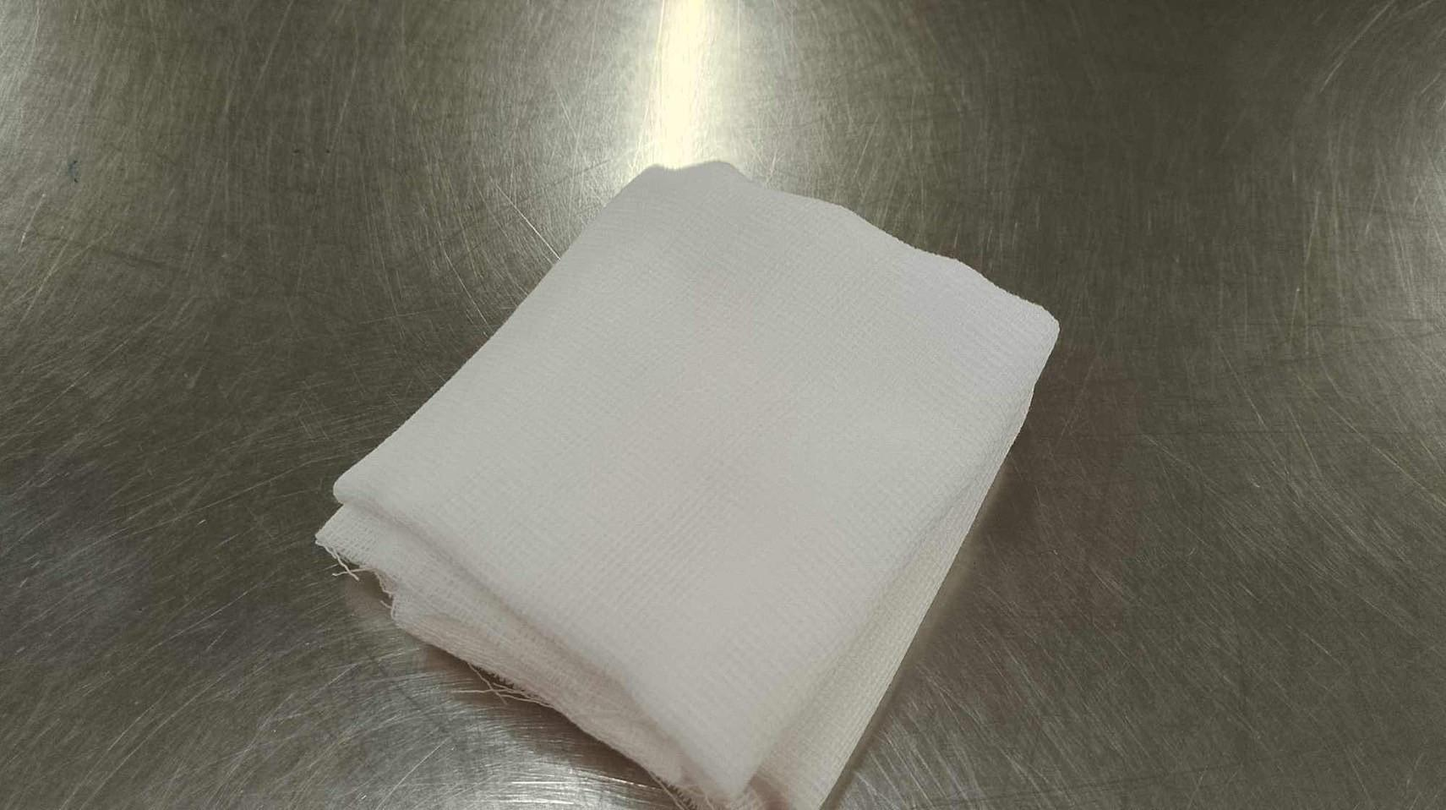Infectious: (313, 156, 1061, 807)
Sharps: (485, 174, 565, 267)
